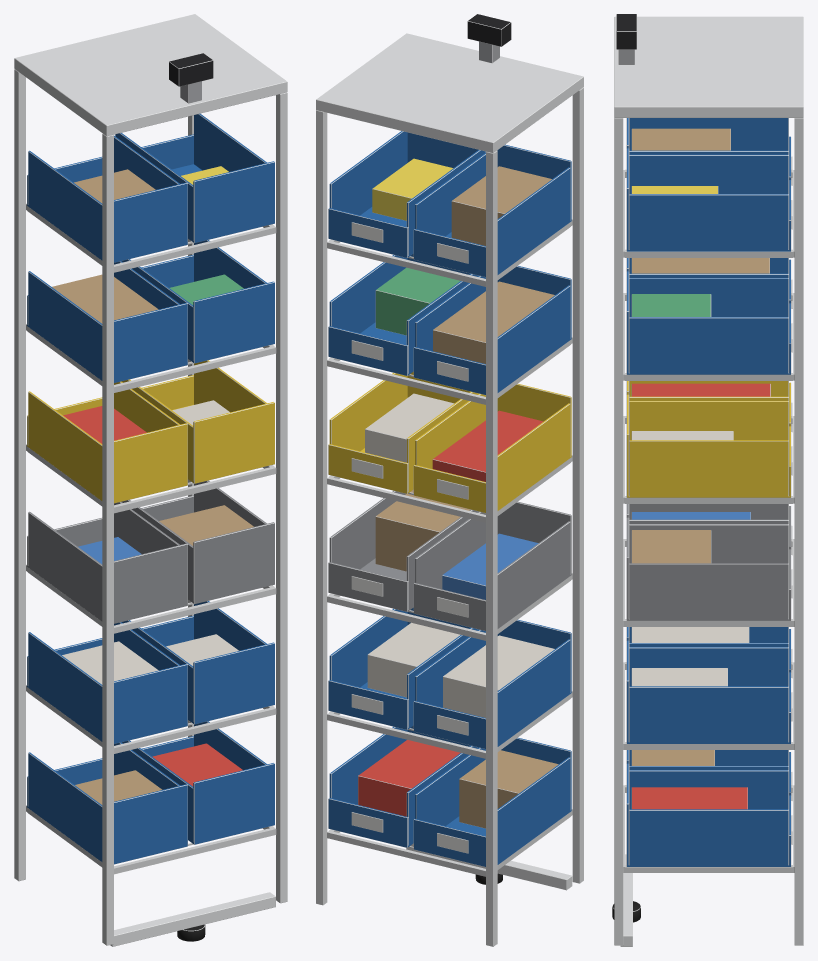
Rendered from carousel_hcarrier_v1.fbx.
3 views of the same model, side by side, from view 1: azimuth 30°, elevation 25°; view 2: azimuth 150°, elevation 25°; view 3: azimuth 270°, elevation 25° (orthographic). The views are drawn at different scales.
Parts seen in each view (by area): view 1: HCarrier_v1, HCarrier_v1_Wire; view 2: HCarrier_v1, HCarrier_v1_Wire; view 3: HCarrier_v1, HCarrier_v1_Wire.
Boxes of the visible parts, x1,y1,x2,y2 form: HCarrier_v1: [14, 14, 287, 946]; HCarrier_v1_Wire: [26, 203, 276, 874]; HCarrier_v1: [316, 14, 583, 946]; HCarrier_v1_Wire: [327, 219, 572, 876]; HCarrier_v1: [612, 14, 803, 946]; HCarrier_v1_Wire: [623, 169, 794, 872].
Bounding box in the file's own units: 0.52 × 2.4 × 0.465.
